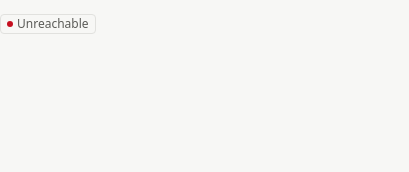
it: failure reasons use the shared Hint, not a native title › the provider status badge shows on hover and on Tab
The image size is (409, 172).
Press Tab
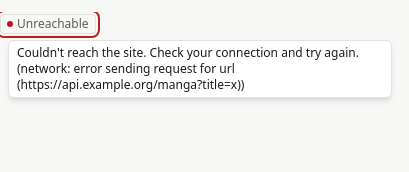
Check: the tooltip shows "network: error sending request for url (https://api.example.org/manga?title=x)", box [17,44,359,93]
Press Escape
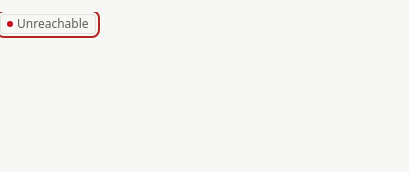
Press Shift+Tab
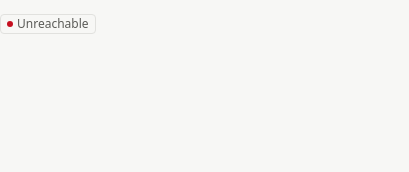
Hover over the element showing "Unreachable" at (48, 24), box [0,14,96,34]
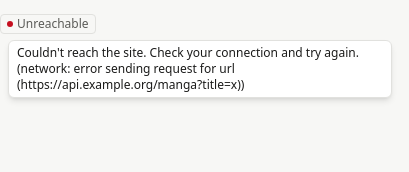
Check: the tooltip shows "network: error sending request for url (https://api.example.org/manga?title=x)", box [17,44,359,93]
